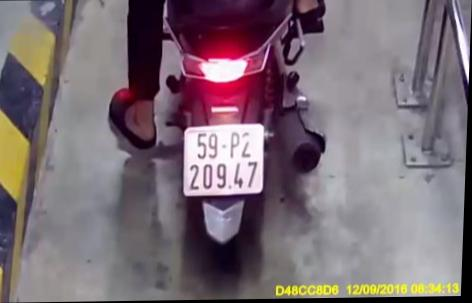LP: (182, 122, 268, 198)
